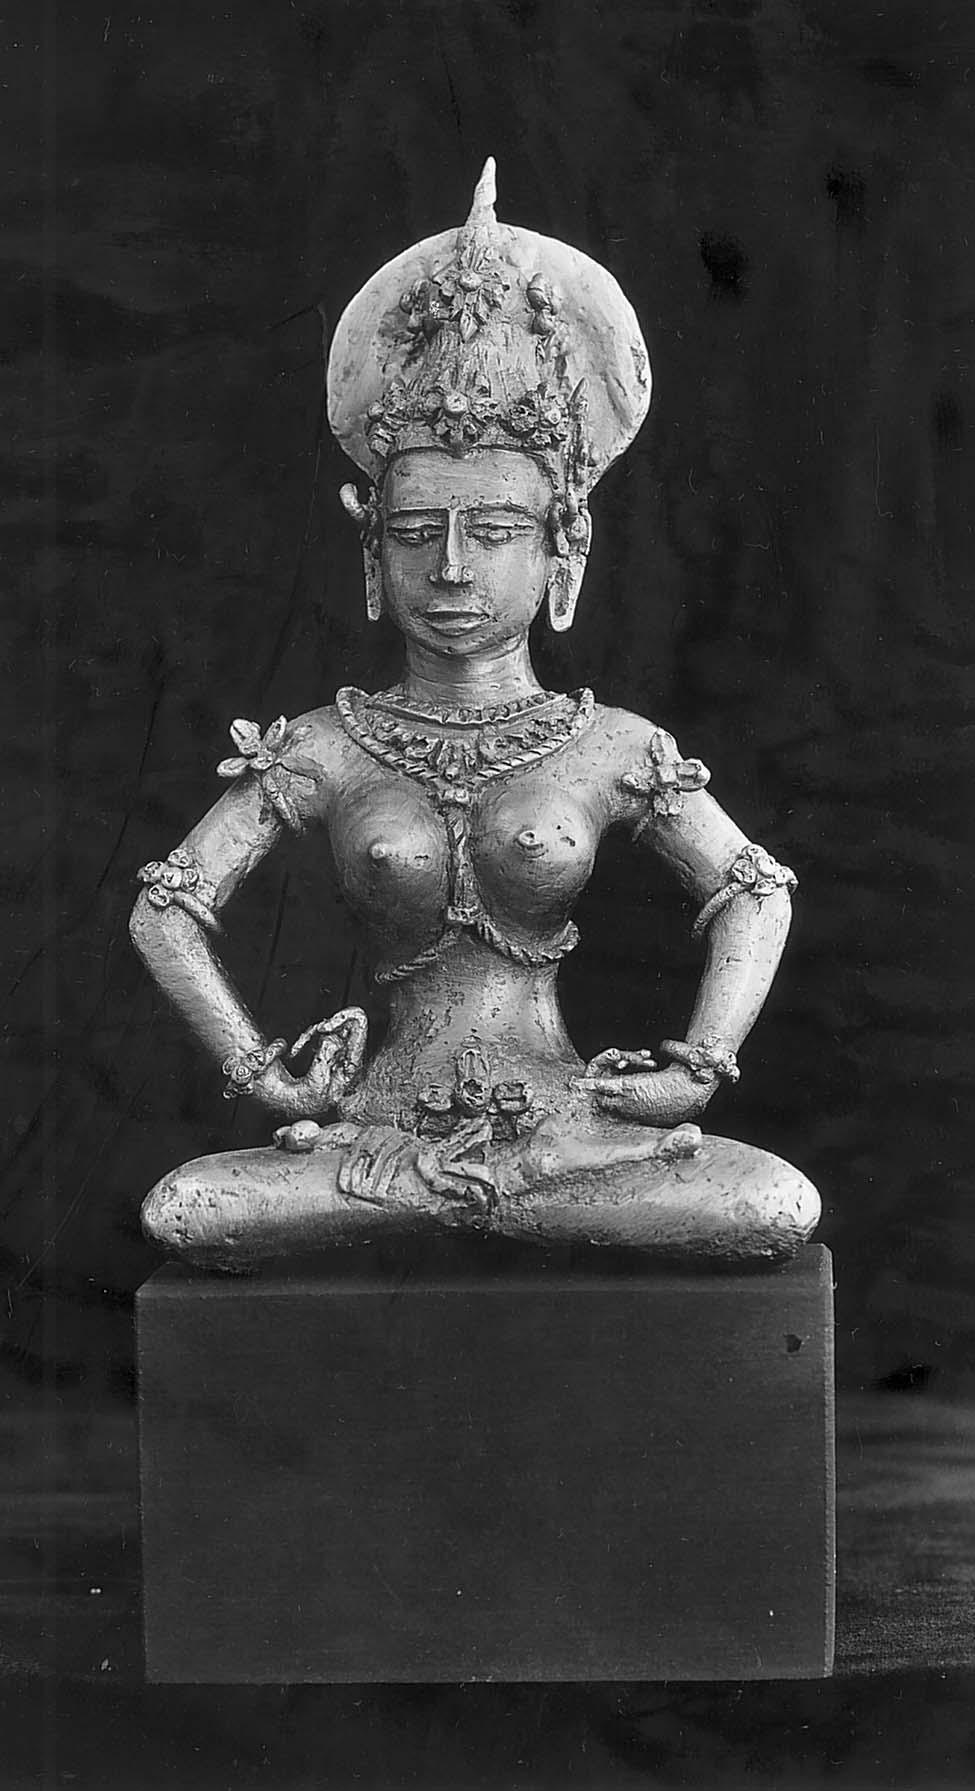golden_tara_of_agusan: (120, 148, 832, 1288)
